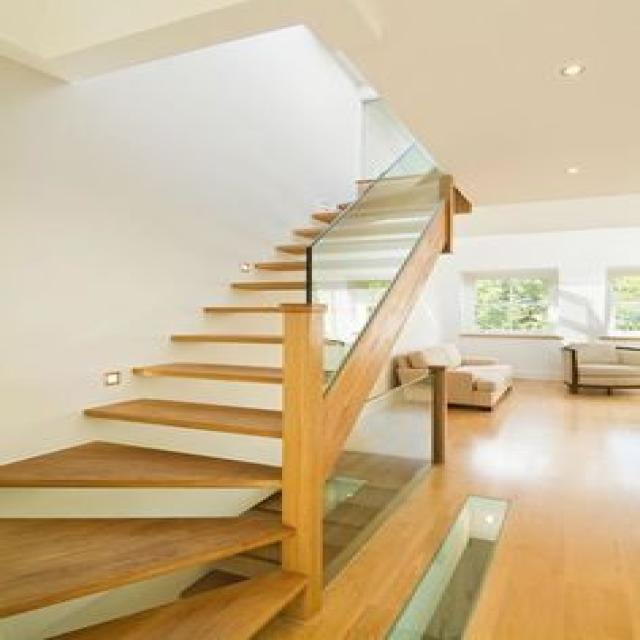upstair: (5, 160, 352, 483)
